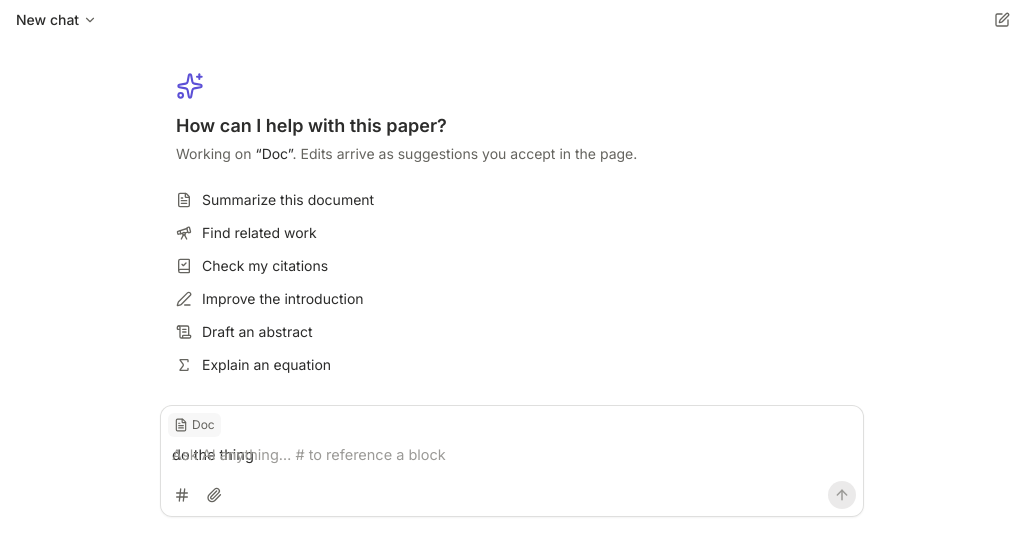
Scenario: the docked panel › names the conversation by its first question until it has a stored title
Check: the button with aria-label "Chats: New chat" is shown, box [8,6,105,34]
Clear the field at (213, 454), box [172,446,254,463]
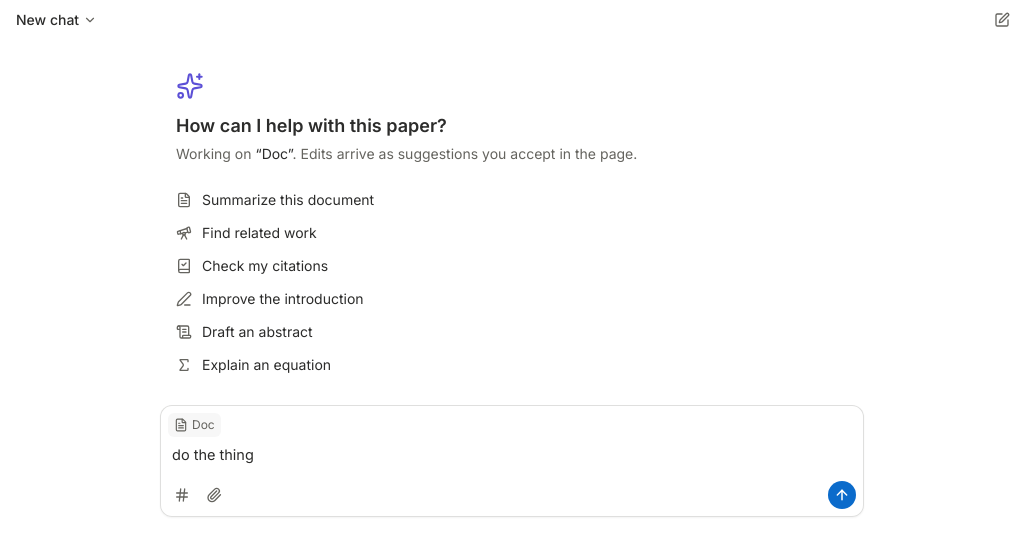
Click the button named "send message" at (842, 495), box [828,481,856,509]
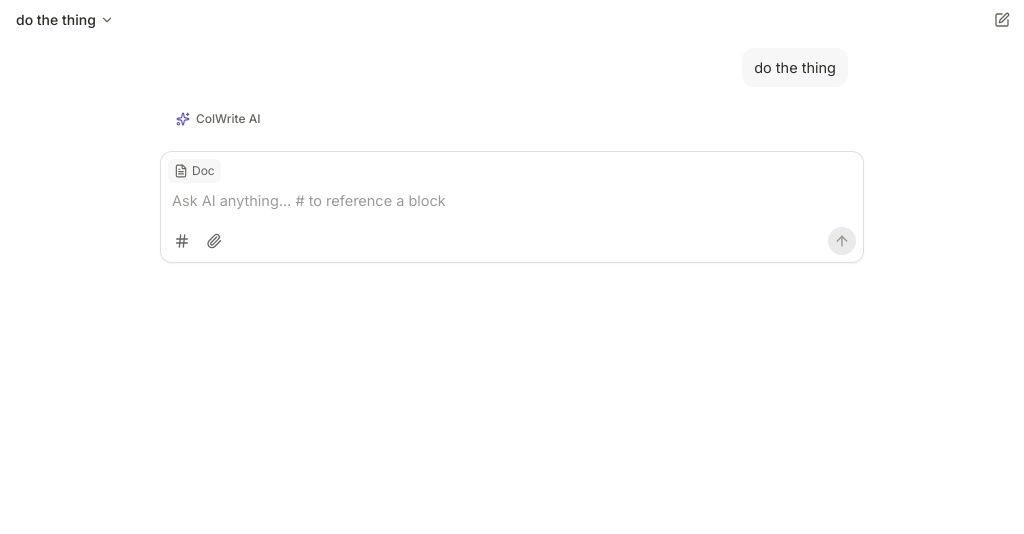
Check: the button with aria-label "Chats: do the thing" is shown, box [8,6,122,34]
